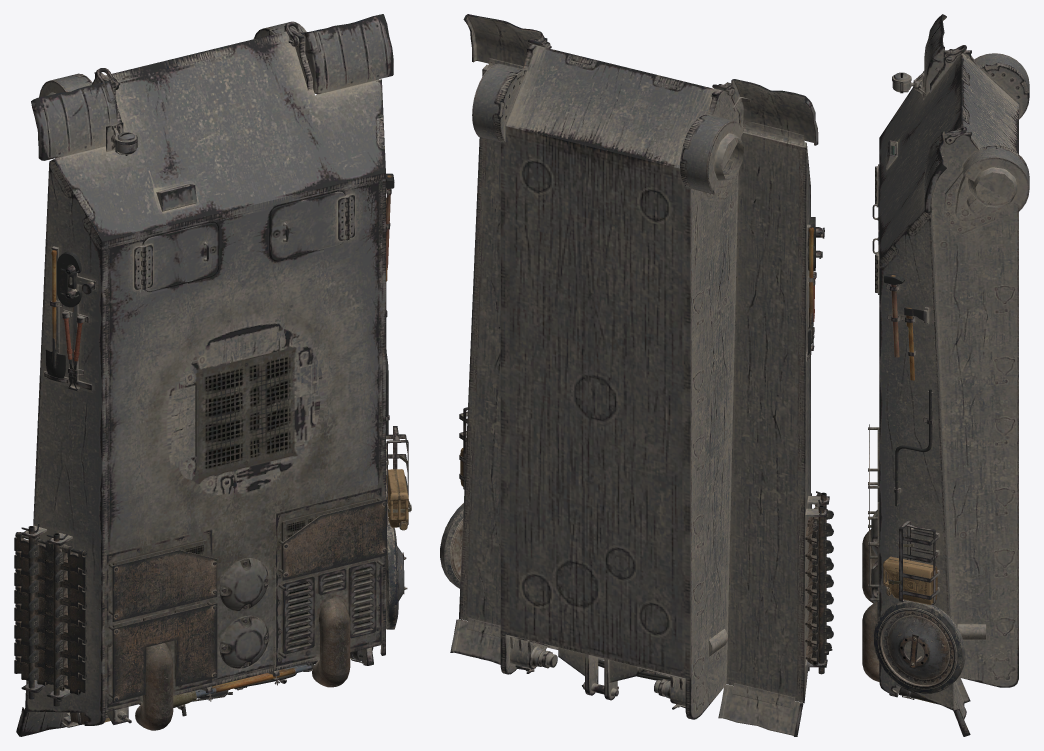
The model's file is Hull.glb.
3 renders of one model, left to right at view 1: azimuth 30°, elevation 25°; view 2: azimuth 150°, elevation 25°; view 3: azimuth 270°, elevation 25°, orthographic. The views are drawn at different scales.
Parts seen in each view (by area): view 1: set_0_group_0; view 2: set_0_group_0; view 3: set_0_group_0.
Part boxes in pixels (x1,y1,x2,y2): set_0_group_0: (14,14,411,736); set_0_group_0: (440,14,833,736); set_0_group_0: (862,14,1029,736).
Size of the model in its own units: 3.47 by 5.66 by 1.49.
Materials: 1 (1 with a texture image).
